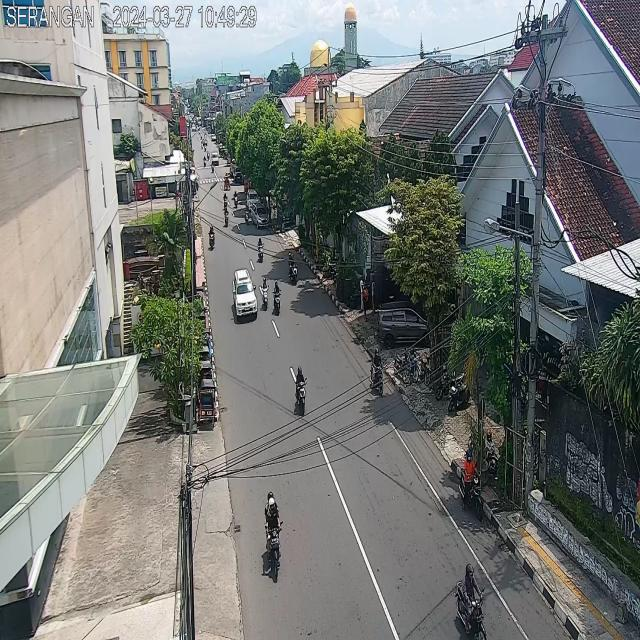car: (233, 267, 258, 322), (252, 203, 270, 228), (247, 188, 259, 210)
motorcycle: (453, 562, 488, 640), (459, 447, 485, 524), (263, 489, 284, 582), (369, 345, 385, 399), (294, 365, 307, 416), (272, 279, 282, 316), (288, 251, 298, 284), (262, 275, 268, 311), (257, 237, 265, 263), (208, 224, 216, 250), (243, 206, 250, 226), (233, 189, 239, 209), (224, 207, 229, 228), (223, 192, 228, 210)
